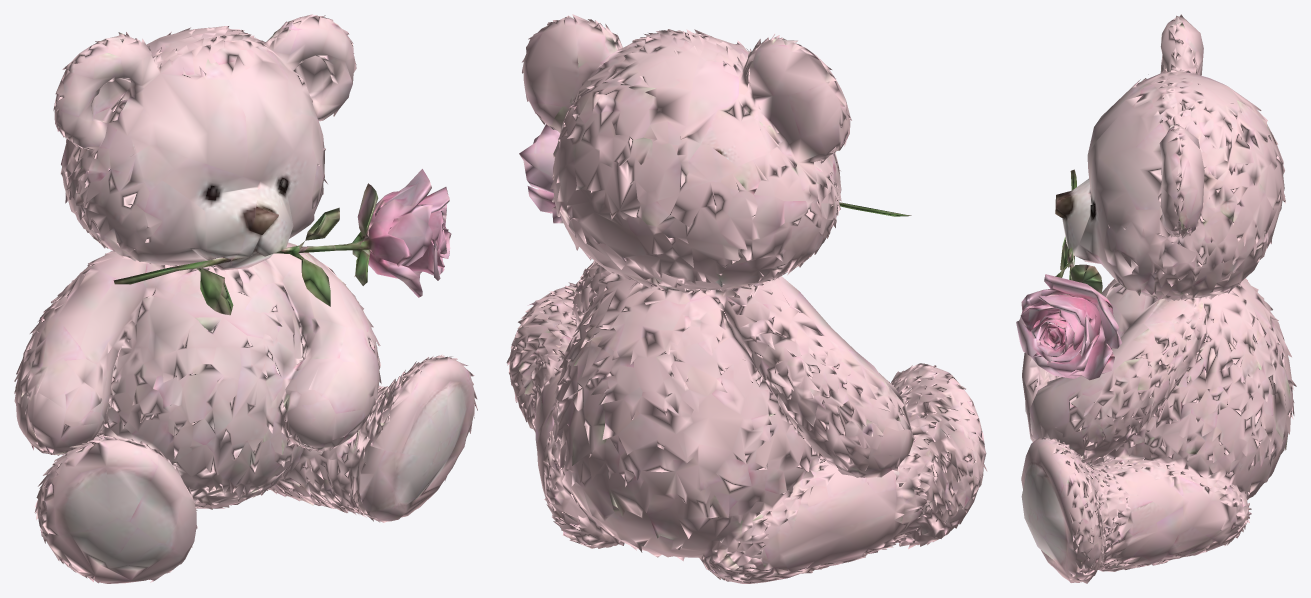
3 renders of one model, left to right at view 1: azimuth 30°, elevation 25°; view 2: azimuth 150°, elevation 25°; view 3: azimuth 270°, elevation 25°, orthographic. The views are drawn at different scales.
Size of the model in its own units: 1.76 by 1.9 by 1.06.
Materials: 1 (1 with a texture image).
